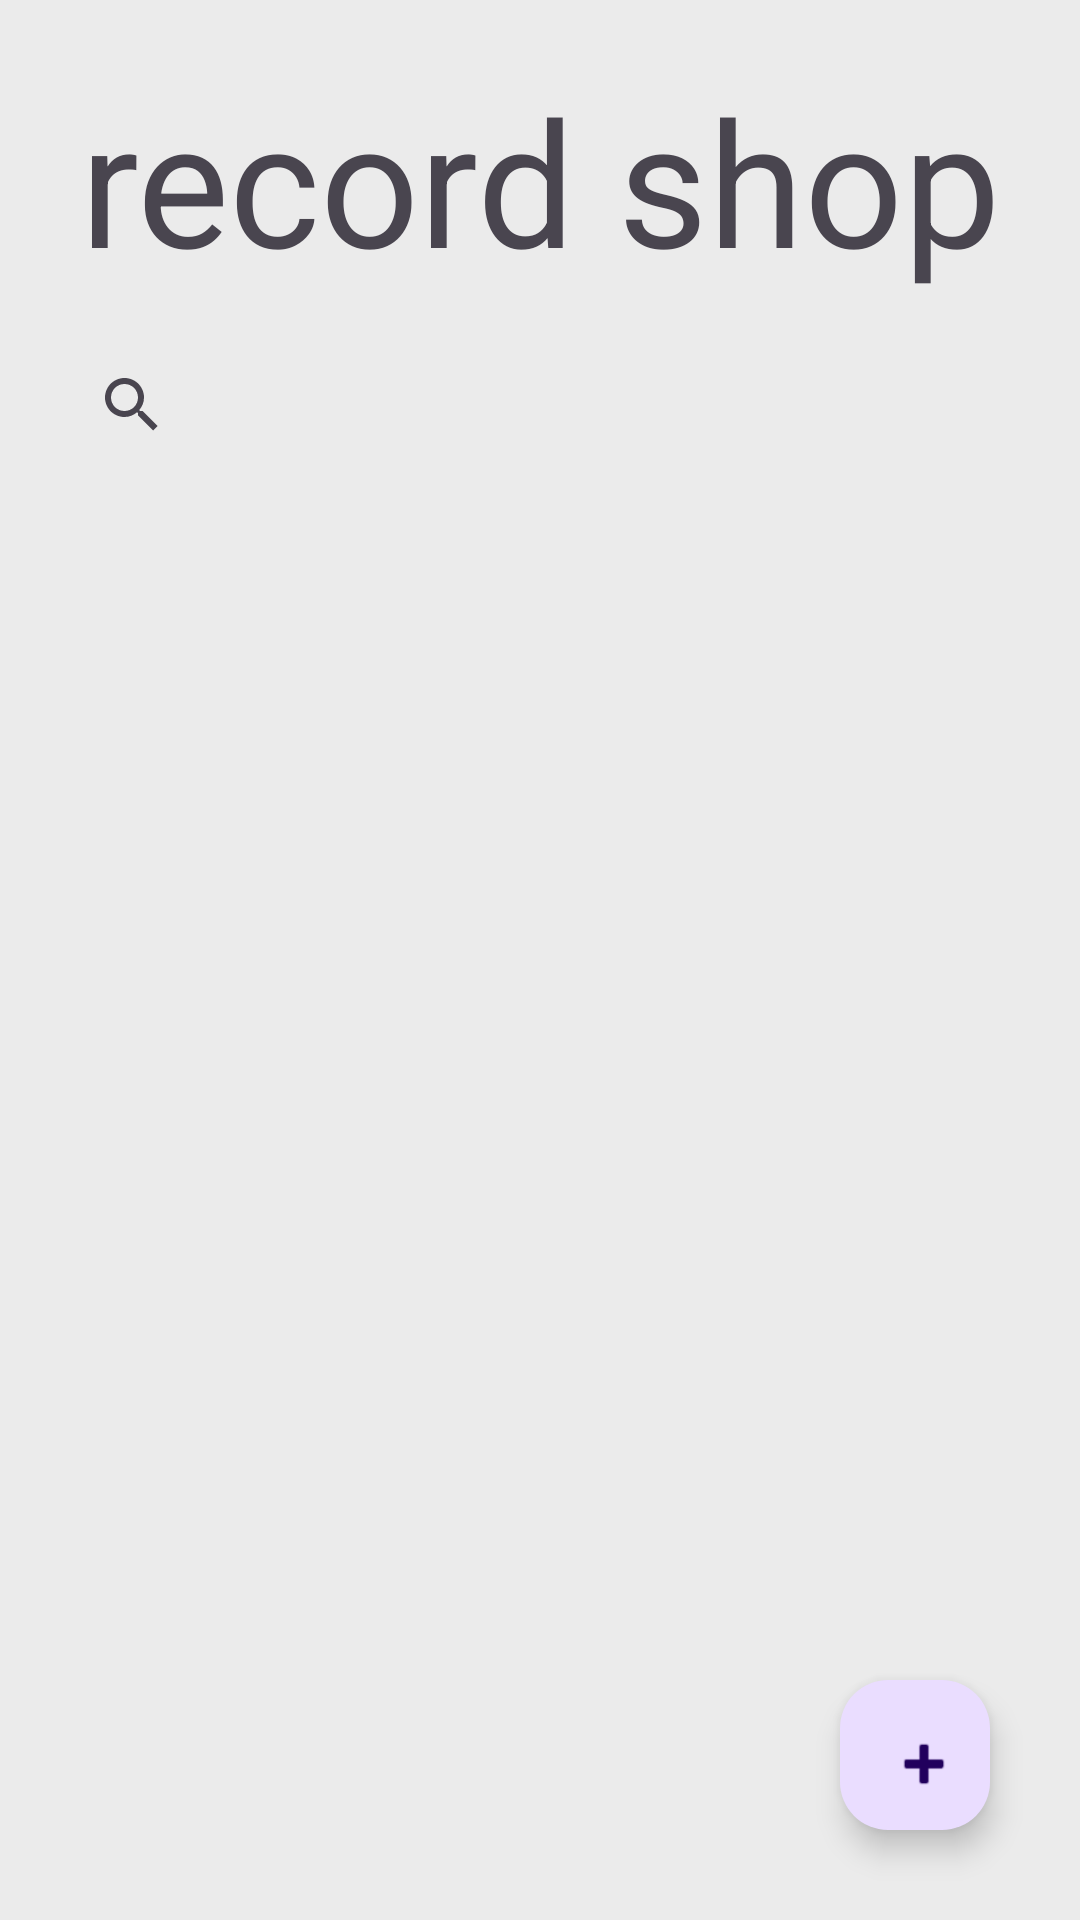

Icon click points for this 1080px x 1920px phone screenshot, format (x=x, y=y):
add: (x=915, y=1755)
